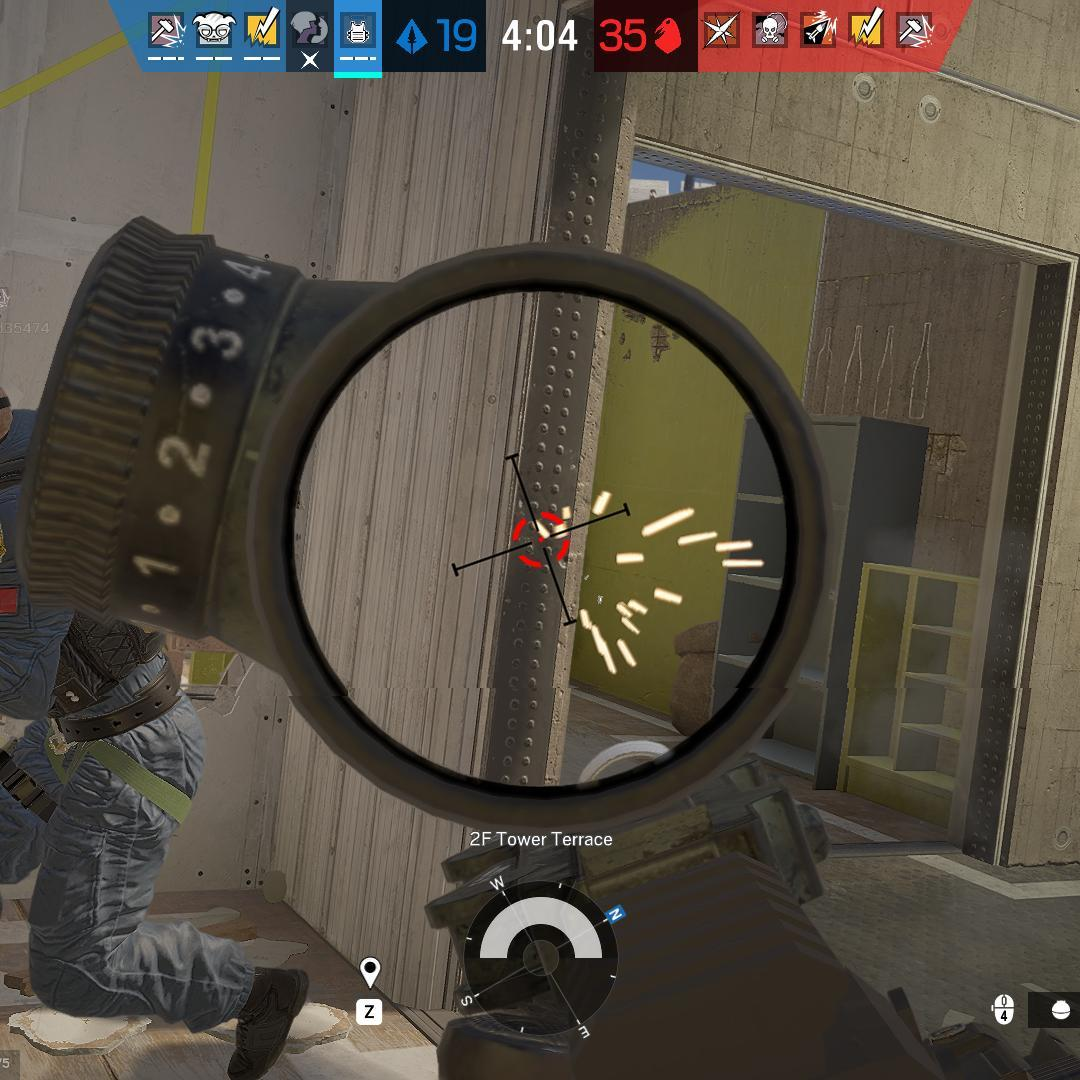Character: (0, 377, 311, 1080)
Friend_label: (0, 286, 52, 334)
